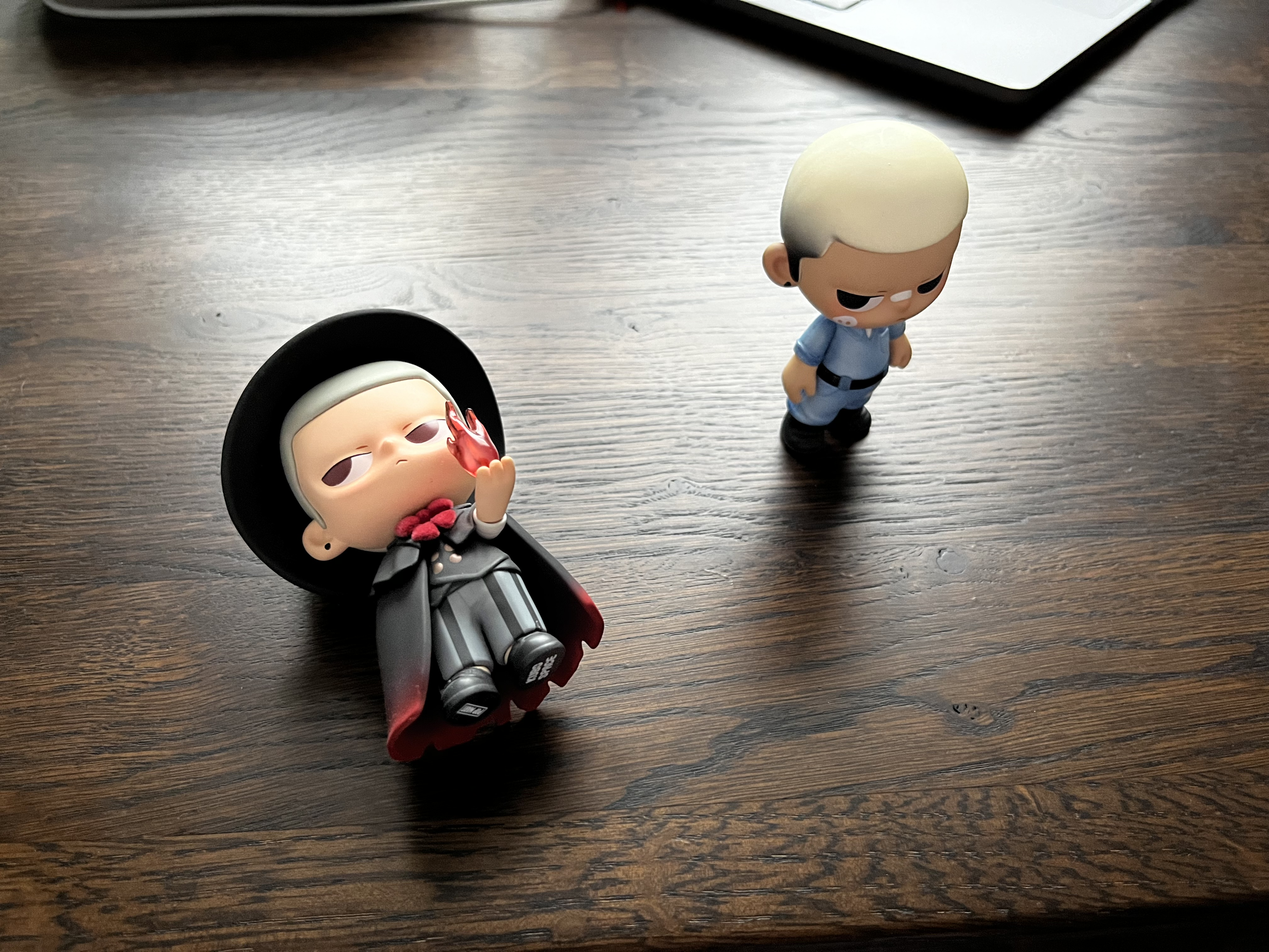magician: (198, 308, 639, 765)
worker: (743, 113, 978, 474)
